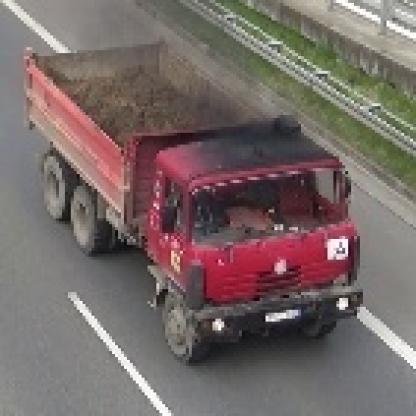truck: (19, 36, 361, 364)
